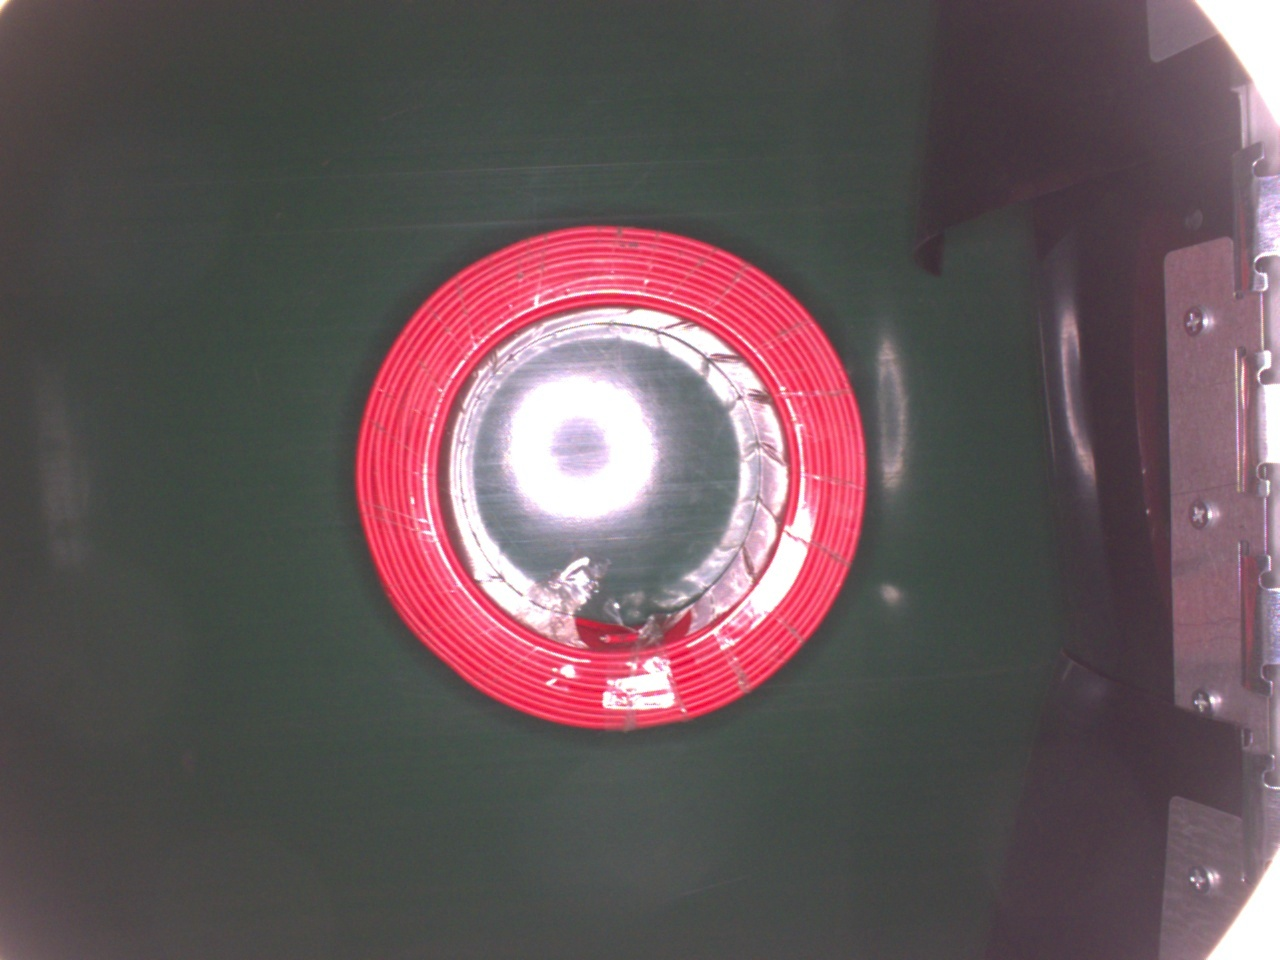red: (354, 221, 865, 735)
